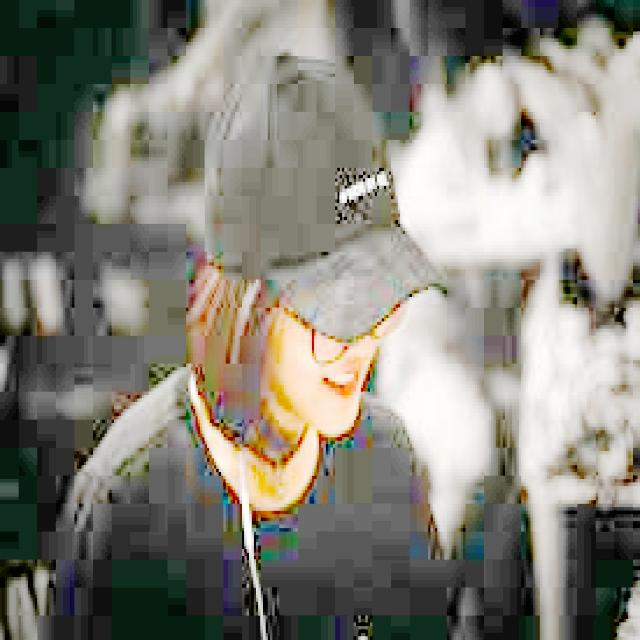TOPI: (194, 38, 484, 342)
